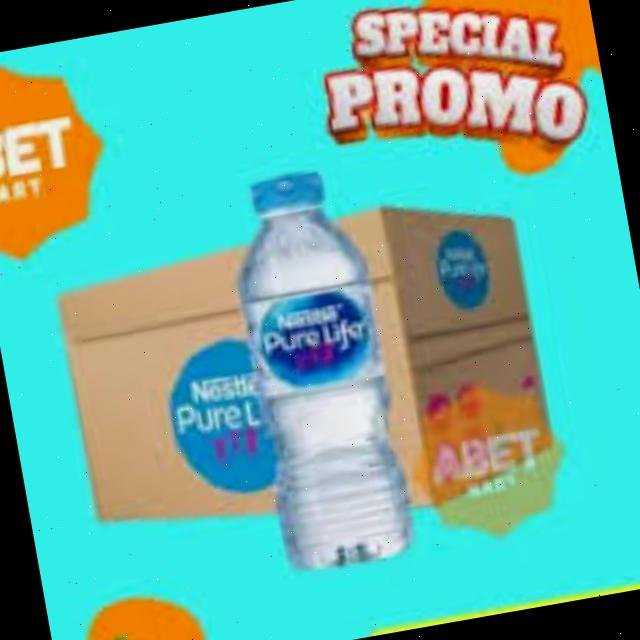trash: (215, 156, 426, 581)
